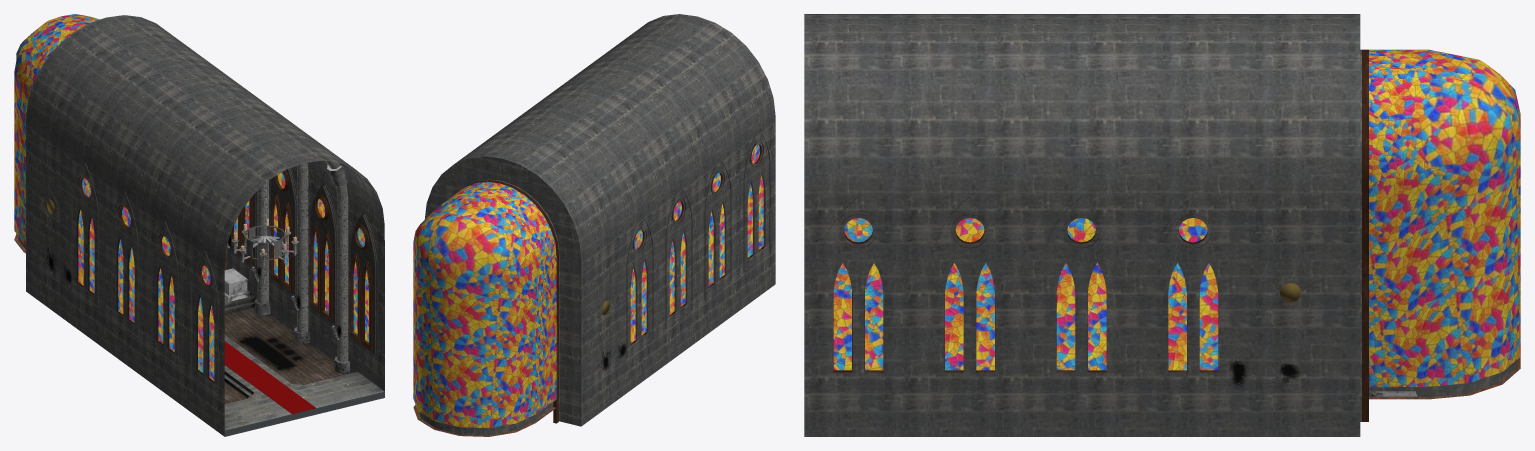
Rendered from hall.glb.
3 views of the same model, side by side, from view 1: azimuth 30°, elevation 25°; view 2: azimuth 150°, elevation 25°; view 3: azimuth 270°, elevation 25° (orthographic). The views are drawn at different scales.
Visible parts, largest first — view 1: Wall_Base, Windows, BaseGround, Wall_Beam, Windows.001, Red_Carpet, Chandelier, Effigy_01; view 2: Wall_Base, Windows, Windows.001, BaseGround; view 3: Wall_Base, Windows.001, Windows.
Part boxes in pixels (<box>): Wall_Base: <box>14,14,384,436</box>; Windows: <box>71,163,378,395</box>; BaseGround: <box>14,234,384,436</box>; Wall_Beam: <box>255,161,349,373</box>; Windows.001: <box>78,172,368,380</box>; Red_Carpet: <box>224,341,315,413</box>; Chandelier: <box>231,183,298,267</box>; Effigy_01: <box>224,268,250,301</box>; Wall_Base: <box>413,14,775,435</box>; Windows: <box>626,130,770,357</box>; Windows.001: <box>630,144,763,343</box>; BaseGround: <box>413,405,555,436</box>; Wall_Base: <box>804,14,1520,436</box>; Windows.001: <box>833,218,1218,370</box>; Windows: <box>821,196,1230,386</box>.
Size of the model in its own units: 18 by 27.11 by 49.48.
15 materials, 14 textured.
